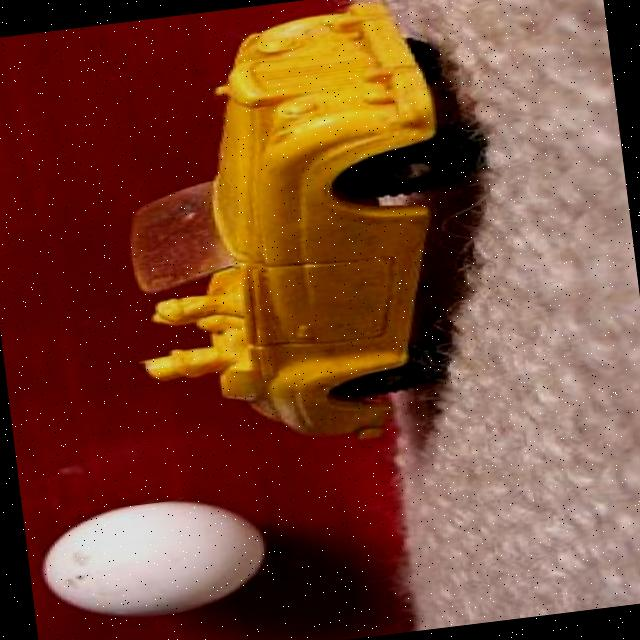ping-pong-ball: (30, 487, 277, 632)
